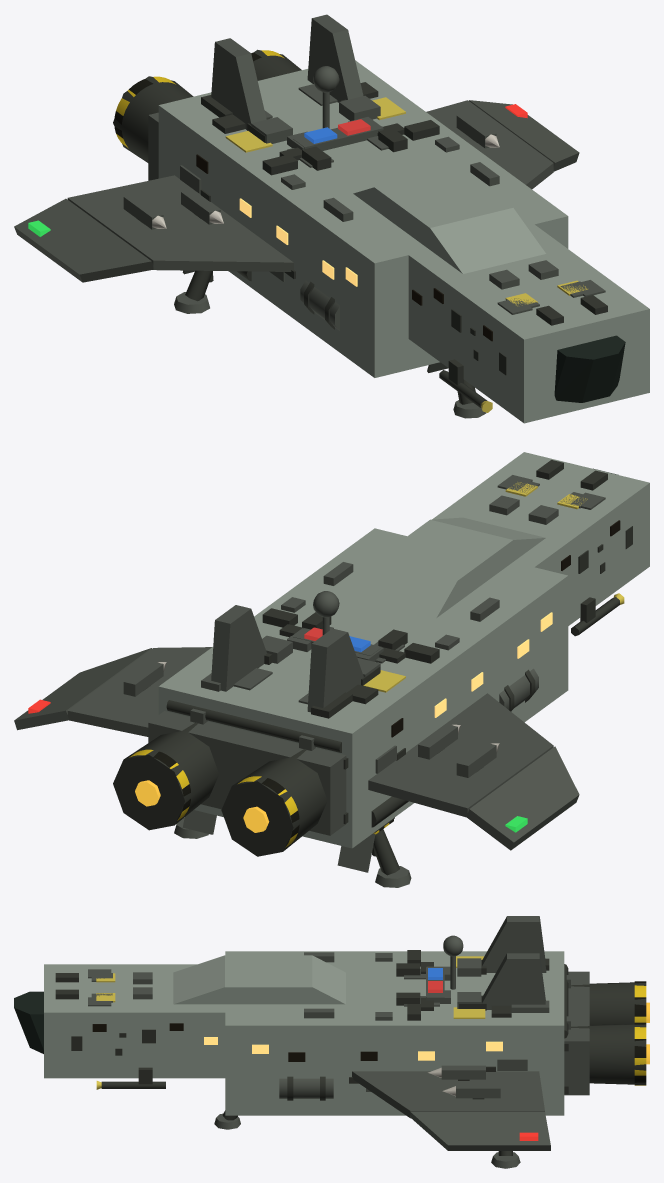
Rendered from police-l(3).glb.
3 renders of one model, top to bottom at view 1: azimuth 30°, elevation 25°; view 2: azimuth 150°, elevation 25°; view 3: azimuth 270°, elevation 25°, orthographic. The views are drawn at different scales.
Parts seen in each view (by area): view 1: hullMain, hullNose, canopyFairing, wingInnerLeft, wingOuterLeft, cockpitGlass, engineHousing (×2), wingInnerRight, stabilizerFinL, stabilizerFinR, wingOuterRight, missileBody (×3) (+5 smaller); view 2: hullMain, hullNose, engineHousing (×2), canopyFairing, wingInnerLeft, engineBayExtension, wingOuterLeft, wingInnerRight, stabilizerFinR, stabilizerFinL, wingOuterRight, missileBody (×3) (+4 smaller); view 3: hullMain, hullNose, canopyFairing, wingInnerRight, engineHousing (×2), wingOuterRight, engineBayExtension, stabilizerFinR, stabilizerFinL, cockpitGlass, missileBody (×2), policeShiphullMainPropellantTankR (+2 smaller).
Boxes of the visible parts, x1=… form: hullMain: x1=158, y1=60, x2=568, y2=377; hullNose: x1=398, y1=224, x2=649, y2=423; canopyFairing: x1=353, y1=167, x2=545, y2=273; wingInnerLeft: x1=67, y1=175, x2=293, y2=271; wingOuterLeft: x1=14, y1=198, x2=153, y2=282; cockpitGlass: x1=554, y1=335, x2=625, y2=402; engineHousing (×2): x1=113, y1=49, x2=301, y2=162; wingInnerRight: x1=426, y1=100, x2=553, y2=189; stabilizerFinL: x1=211, y1=38, x2=266, y2=129; stabilizerFinR: x1=307, y1=14, x2=363, y2=102; wingOuterRight: x1=469, y1=100, x2=579, y2=171; missileBody (×3): x1=123, y1=113, x2=496, y2=229; hullMain: x1=158, y1=528, x2=568, y2=848; hullNose: x1=432, y1=452, x2=649, y2=625; engineHousing (×2): x1=113, y1=722, x2=327, y2=856; canopyFairing: x1=353, y1=517, x2=545, y2=618; wingInnerLeft: x1=368, y1=693, x2=553, y2=817; engineBayExtension: x1=148, y1=711, x2=346, y2=835; wingOuterLeft: x1=466, y1=746, x2=579, y2=850; wingInnerRight: x1=67, y1=647, x2=211, y2=736; stabilizerFinR: x1=211, y1=605, x2=266, y2=691; stabilizerFinL: x1=307, y1=628, x2=363, y2=712; wingOuterRight: x1=14, y1=648, x2=151, y2=730; missileBody (×3): x1=123, y1=661, x2=496, y2=777; hullMain: x1=225, y1=951, x2=564, y2=1115; hullNose: x1=44, y1=964, x2=242, y2=1078; canopyFairing: x1=173, y1=955, x2=345, y2=1004; wingInnerRight: x1=352, y1=1071, x2=544, y2=1118; engineHousing (×2): x1=571, y1=982, x2=646, y2=1084; wingOuterRight: x1=410, y1=1111, x2=550, y2=1150; engineBayExtension: x1=564, y1=971, x2=589, y2=1095; stabilizerFinR: x1=482, y1=953, x2=545, y2=1009; stabilizerFinL: x1=482, y1=916, x2=546, y2=972; cockpitGlass: x1=14, y1=991, x2=43, y2=1053; missileBody (×2): x1=441, y1=1065, x2=500, y2=1098; policeShiphullMainPropellantTankR: x1=279, y1=1078, x2=333, y2=1098.
Bounding box in the file's own units: 3.87 × 1.77 × 5.44.
